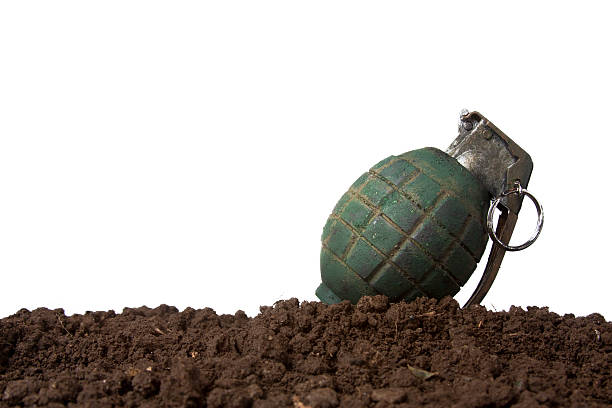e1: (313, 109, 546, 308)
